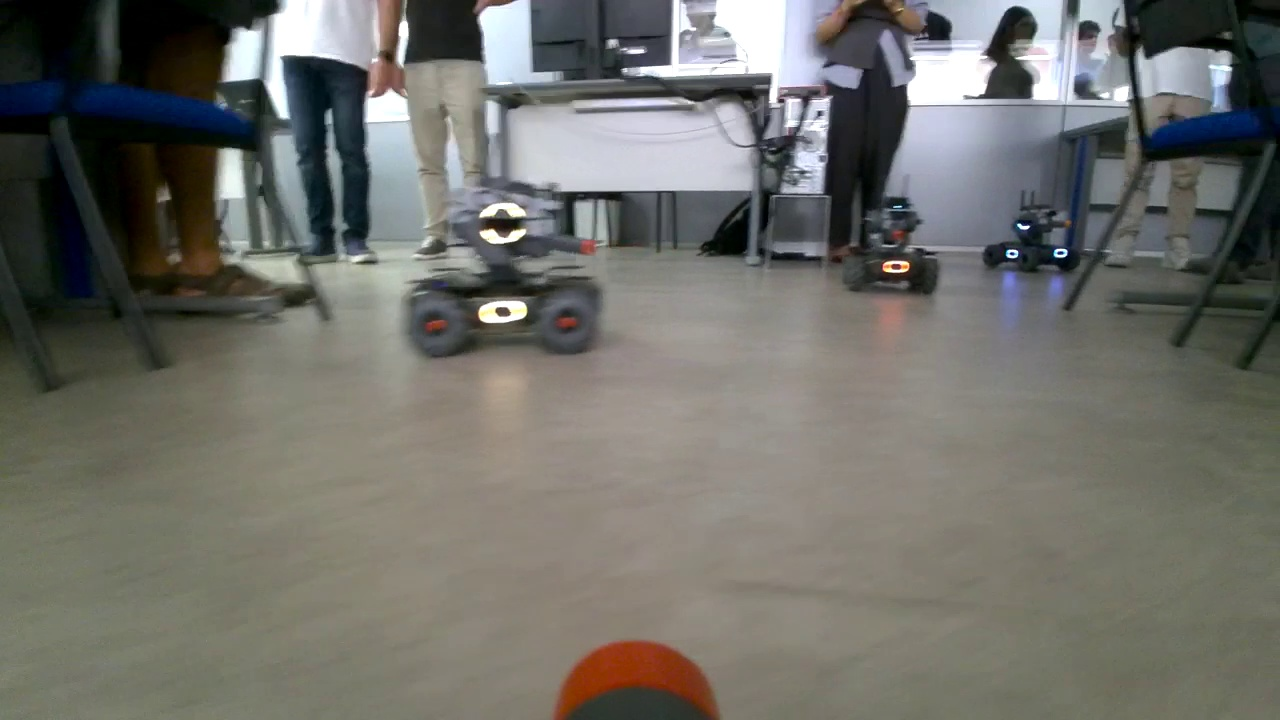robot: (405, 134, 596, 350), (845, 177, 939, 295), (982, 187, 1080, 278)
